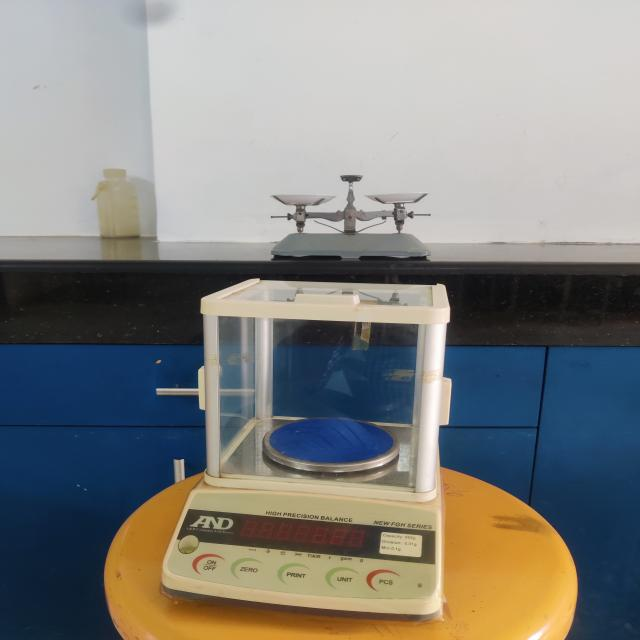Mechanical_Balance_Scale: (240, 157, 464, 274)
Precision_Weight_Scale: (135, 272, 509, 640)
